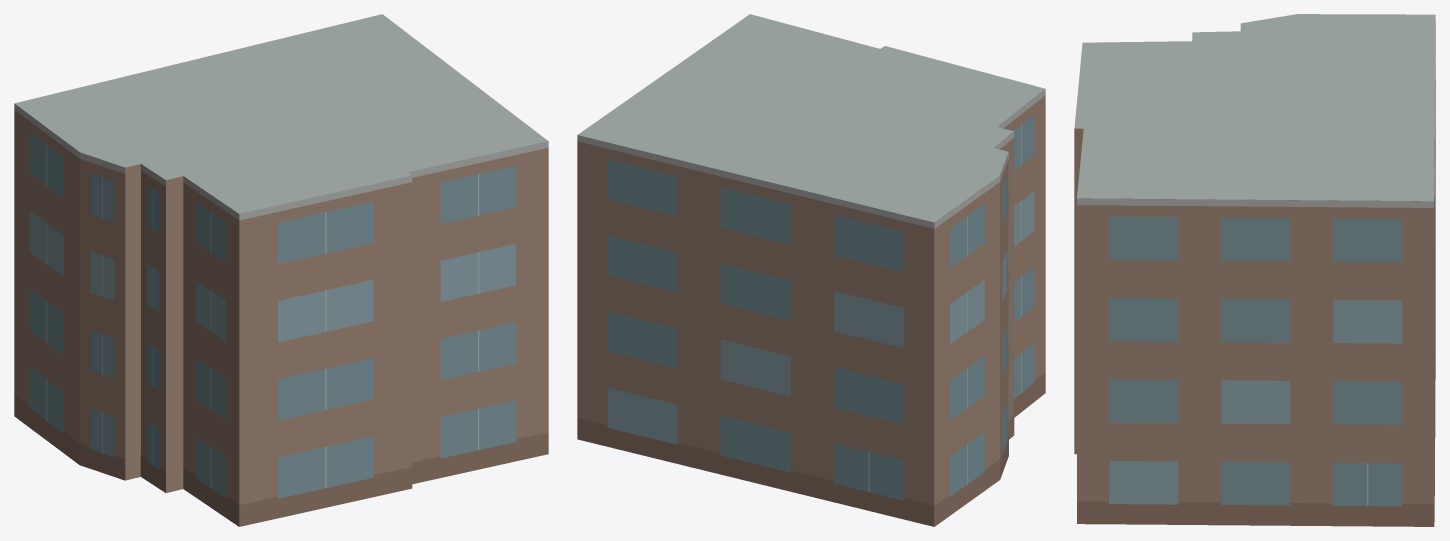
The model's file is survey-upis-32623027.glb.
The picture shows the model from 3 angles, left to right: view 1: azimuth 30°, elevation 25°; view 2: azimuth 150°, elevation 25°; view 3: azimuth 270°, elevation 25°; orthographic projection. The views are drawn at different scales.
Parts seen in each view (by area): view 1: survey-upis-32623027.tmp; view 2: survey-upis-32623027.tmp; view 3: survey-upis-32623027.tmp.
Boxes of the visible parts, x1,y1,x2,y2 form: survey-upis-32623027.tmp: (14,14,548,526); survey-upis-32623027.tmp: (577,14,1045,526); survey-upis-32623027.tmp: (1074,14,1435,526).
Size of the model in its own units: 14.44 by 11.7 by 11.77.
